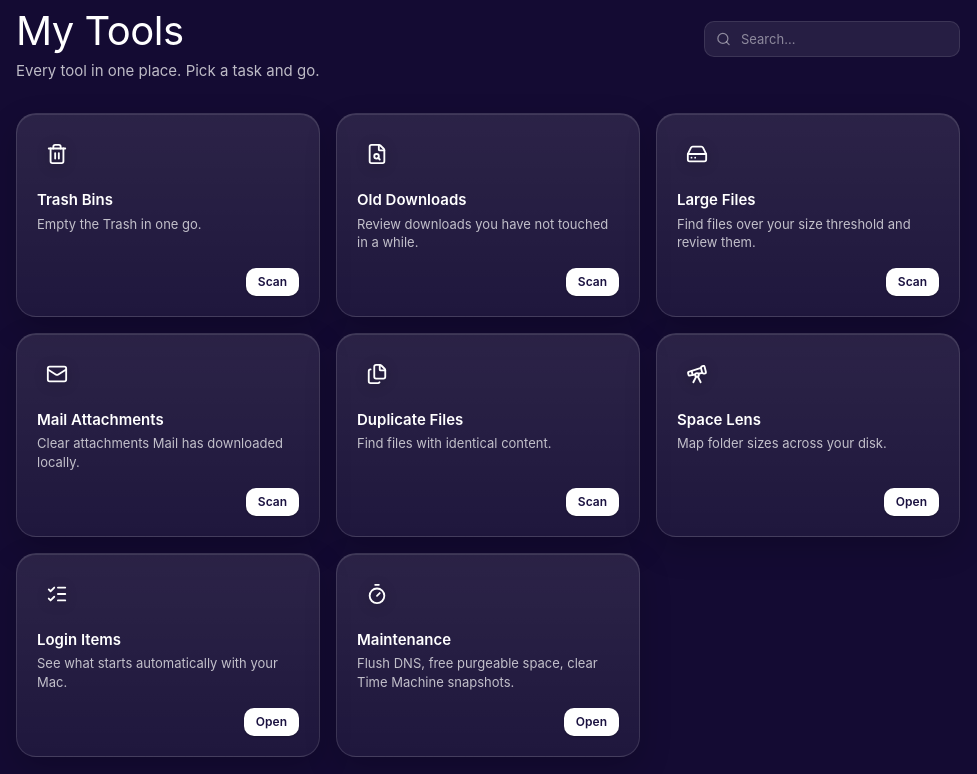
Scenario: <MyTools /> › shows an empty message when nothing matches
Type "zzz" into the search field named "Search tools" at [832, 39], box left=704, top=21, right=960, bottom=57
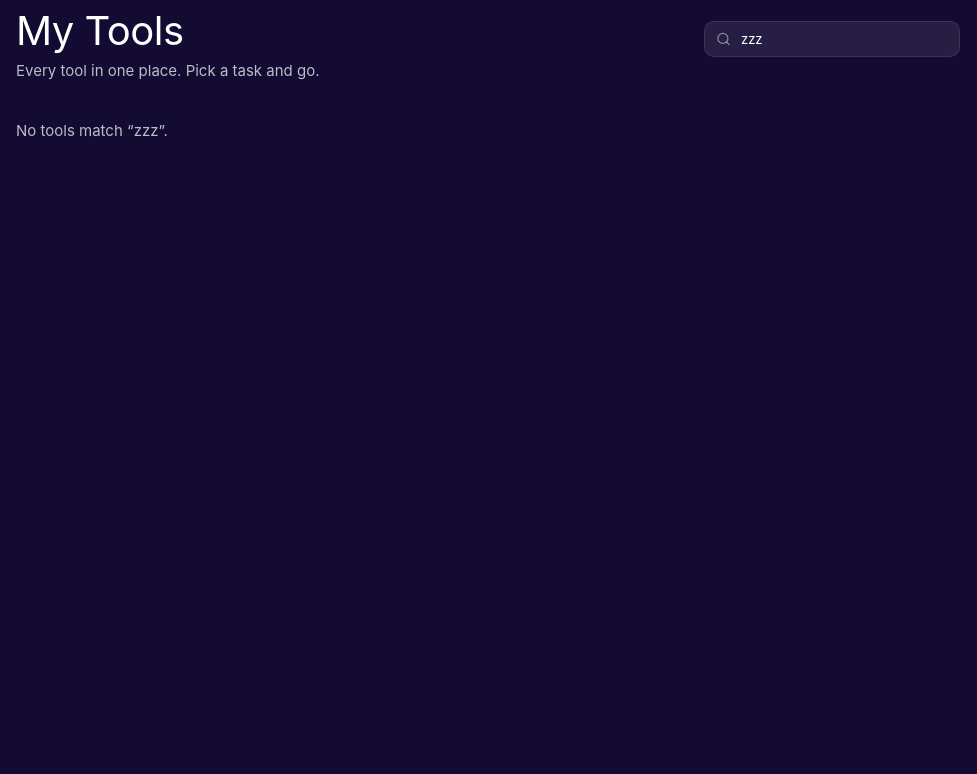
expect the text "No tools match “zzz”." is shown: met, box left=16, top=121, right=168, bottom=140
